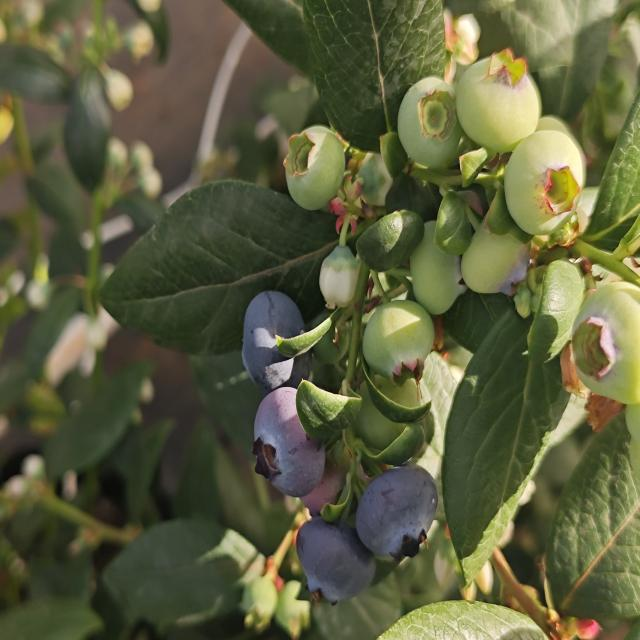ripe: (242, 384, 334, 493), (284, 504, 377, 598), (340, 473, 440, 557), (253, 284, 303, 374)
